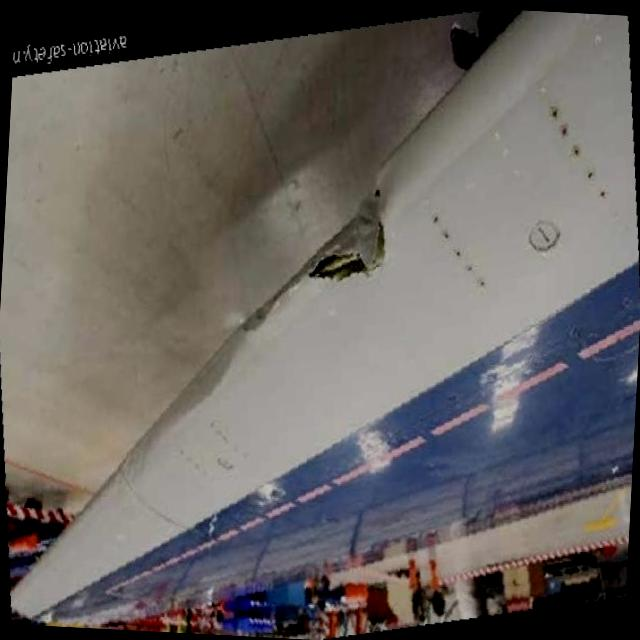crack: (308, 178, 386, 288)
dent: (122, 329, 235, 473), (238, 270, 298, 336)
